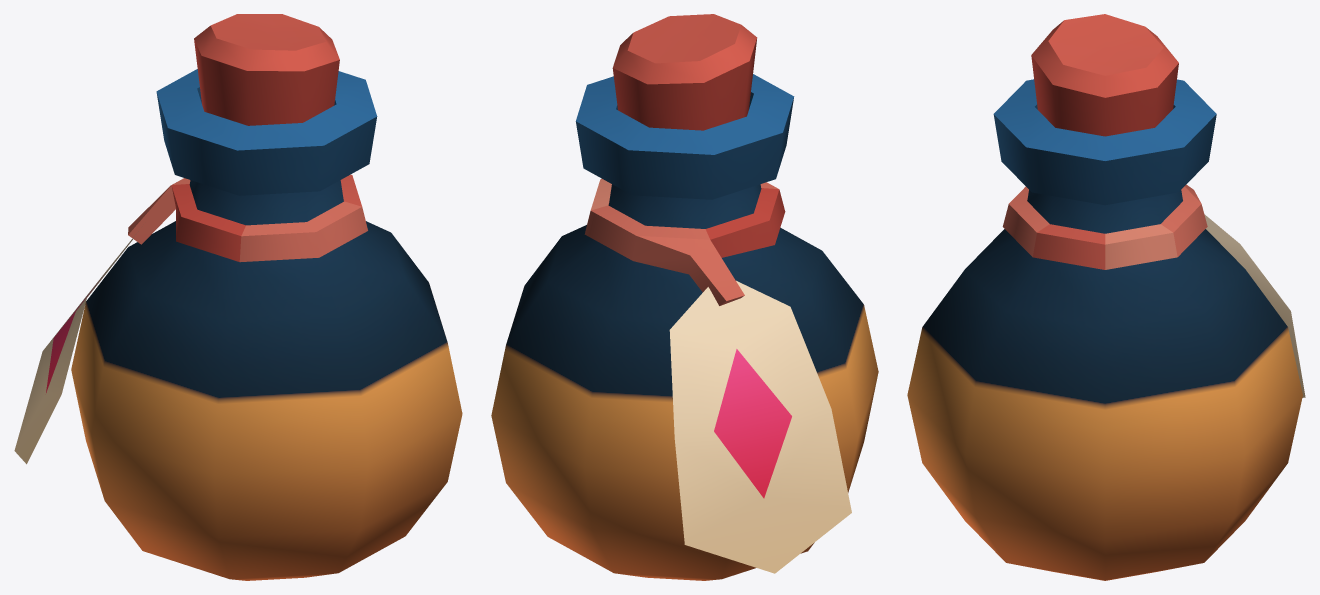
File: Potion_Health1.fbx
The picture shows the model from 3 angles, left to right: view 1: azimuth 30°, elevation 25°; view 2: azimuth 150°, elevation 25°; view 3: azimuth 270°, elevation 25°; orthographic projection. The views are drawn at different scales.
Parts seen in each view (by area): view 1: Potion_Health1; view 2: Potion_Health1; view 3: Potion_Health1.
Part boxes in pixels (<box>): Potion_Health1: <box>14,14,462,580</box>; Potion_Health1: <box>491,14,878,580</box>; Potion_Health1: <box>907,14,1305,580</box>.
Size of the model in its own units: 35.43 by 45.98 by 32.41.
